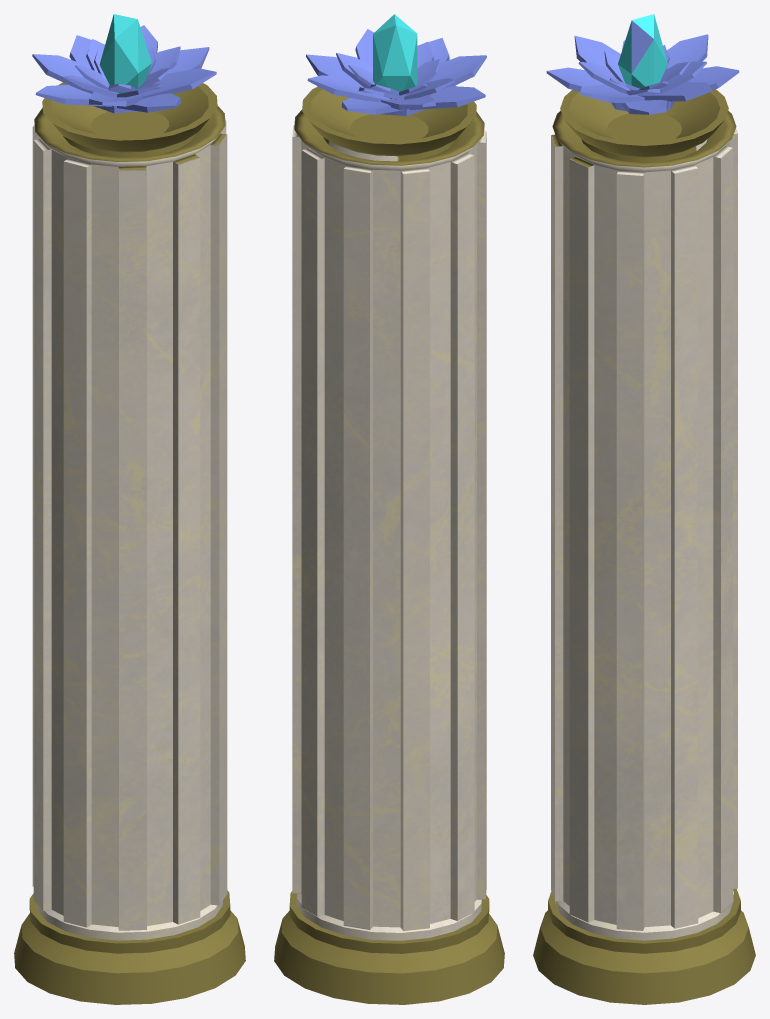
Rendered from archwayPillar.glb.
The picture shows the model from 3 angles, left to right: view 1: azimuth 30°, elevation 25°; view 2: azimuth 150°, elevation 25°; view 3: azimuth 270°, elevation 25°; orthographic projection.
Visible parts, largest first — view 1: archwaywhole.005; view 2: archwaywhole.005; view 3: archwaywhole.005.
Boxes of the visible parts, x1,y1,x2,y2 form: archwaywhole.005: (14, 14, 245, 1004); archwaywhole.005: (274, 14, 504, 1004); archwaywhole.005: (533, 14, 755, 1004).
Bounding box in the file's own units: 0.3082 × 1.35 × 0.2922.
Materials: 3 (1 with a texture image).
